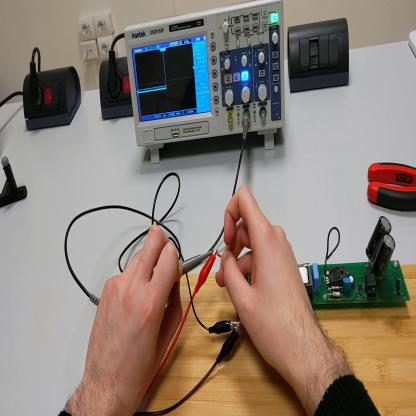hand: (216, 186, 320, 380), (85, 224, 178, 403)
high voltage board: (213, 218, 410, 309)
oscilloscope: (126, 3, 287, 163)
oscilloscope probe tip: (181, 251, 214, 277)
pliers: (369, 161, 416, 212)
socket: (22, 65, 82, 134), (99, 49, 134, 121)
working area: (138, 259, 416, 416)
